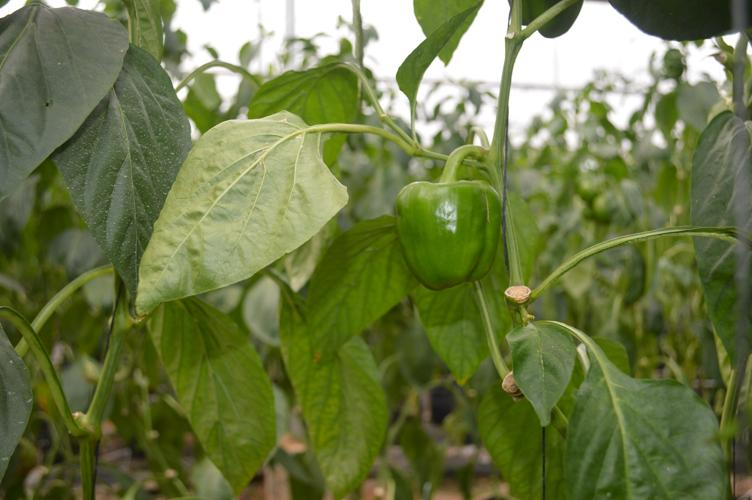BellPepper: (394, 180, 501, 291)
